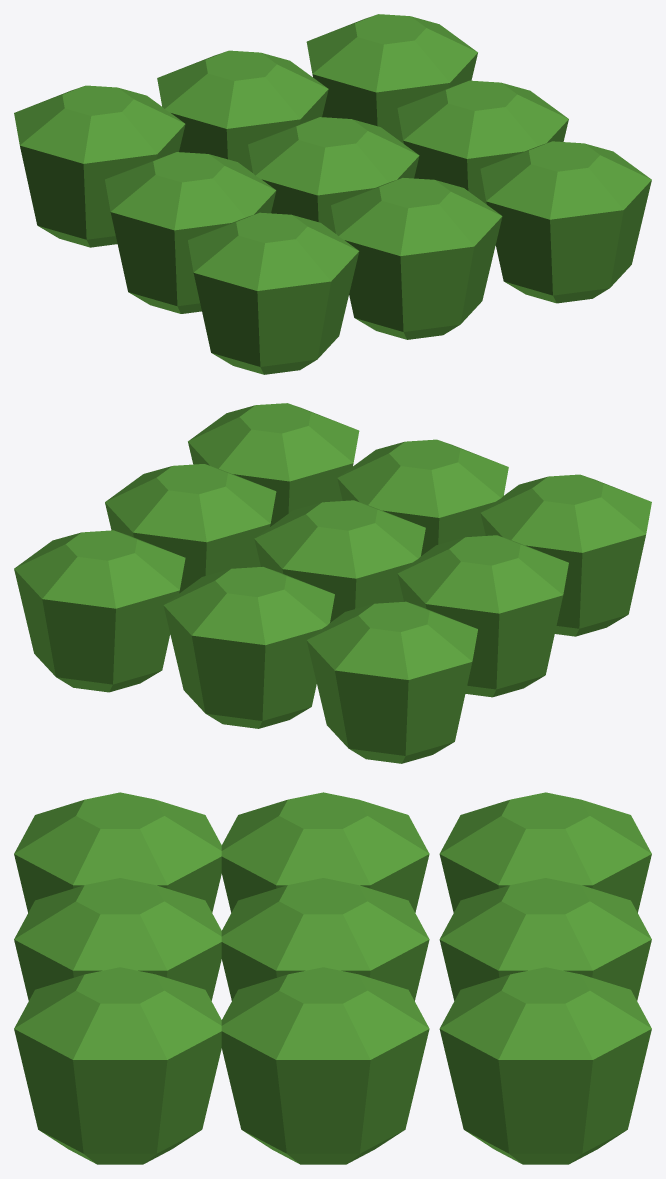
Rendered from PommeVertPetitGroupe.fbx.
The picture shows the model from 3 angles, top to bottom: view 1: azimuth 30°, elevation 25°; view 2: azimuth 150°, elevation 25°; view 3: azimuth 270°, elevation 25°; orthographic projection. The views are drawn at different scales.
Visible parts, largest first — view 1: Cylinder.005, Cylinder.007, Cylinder.006, Cylinder.019, Cylinder.010, Cylinder.021, Cylinder.020, Cylinder.008, Cylinder.009; view 2: Cylinder.019, Cylinder.021, Cylinder.020, Cylinder.010, Cylinder.005, Cylinder.008, Cylinder.009, Cylinder.007, Cylinder.006; view 3: Cylinder.021, Cylinder.008, Cylinder.007, Cylinder.020, Cylinder.009, Cylinder.006, Cylinder.019, Cylinder.010, Cylinder.005.
Boxes of the visible parts, <box> form: Cylinder.005: <box>188,212,359,374</box>; Cylinder.007: <box>480,141,651,303</box>; Cylinder.006: <box>331,178,502,339</box>; Cylinder.019: <box>14,85,185,247</box>; Cylinder.010: <box>105,152,276,313</box>; Cylinder.021: <box>306,14,477,143</box>; Cylinder.020: <box>157,50,328,172</box>; Cylinder.008: <box>397,80,568,204</box>; Cylinder.009: <box>248,117,419,233</box>; Cylinder.019: <box>306,601,477,763</box>; Cylinder.021: <box>14,530,185,692</box>; Cylinder.020: <box>163,567,334,728</box>; Cylinder.010: <box>397,535,568,697</box>; Cylinder.005: <box>480,474,651,636</box>; Cylinder.008: <box>105,464,276,593</box>; Cylinder.009: <box>254,500,425,622</box>; Cylinder.007: <box>188,403,359,526</box>; Cylinder.006: <box>337,439,508,555</box>; Cylinder.021: <box>439,967,651,1164</box>; Cylinder.008: <box>221,967,429,1164</box>; Cylinder.007: <box>14,967,221,1164</box>; Cylinder.020: <box>439,878,651,1000</box>; Cylinder.009: <box>221,878,429,1000</box>; Cylinder.006: <box>14,878,221,1000</box>; Cylinder.019: <box>439,792,651,912</box>; Cylinder.010: <box>221,792,429,912</box>; Cylinder.005: <box>14,792,221,912</box>.
Size of the model in its own units: 239 by 67.18 by 246.
